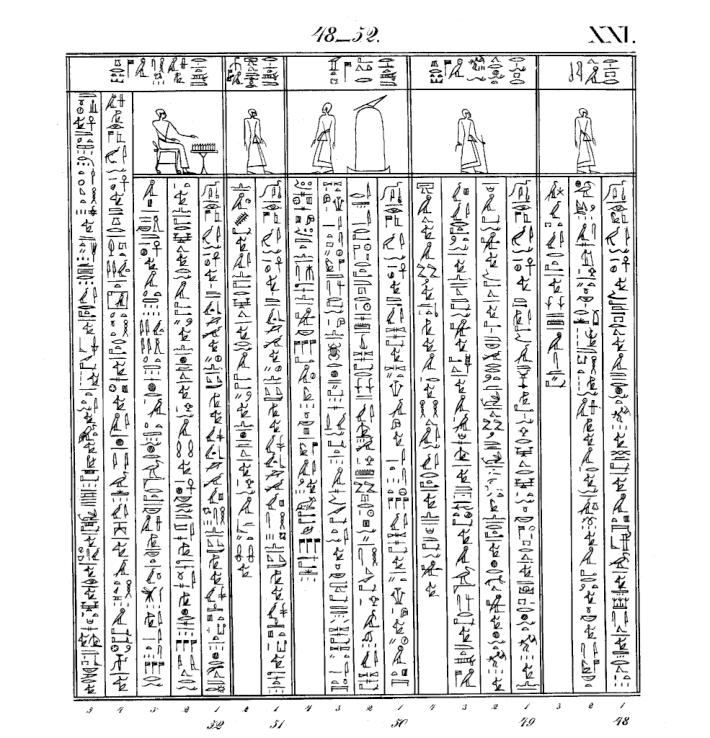circle: (347, 105, 404, 170)
